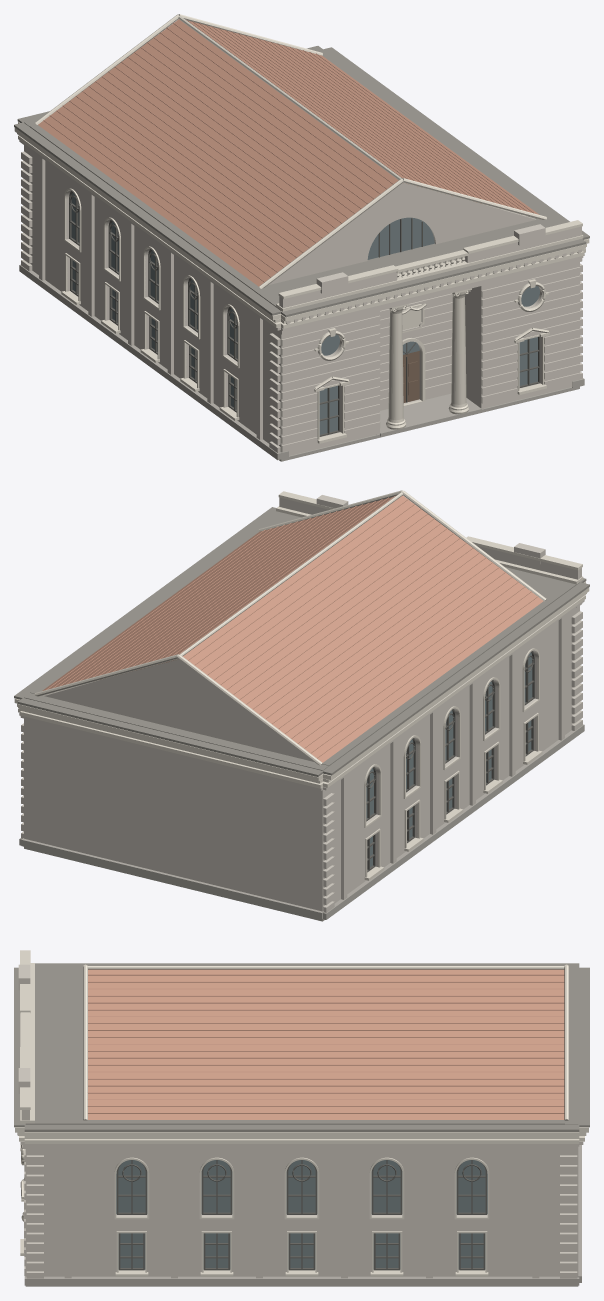
The model's file is jingan-ohel-rachel-synagogue-raw.glb.
3 renders of one model, top to bottom at view 1: azimuth 30°, elevation 25°; view 2: azimuth 150°, elevation 25°; view 3: azimuth 270°, elevation 25°, orthographic. The views are drawn at different scales.
Parts seen in each view (by area): view 1: 西摩路会堂（拉结会堂院内柱廊与侧窗）; view 2: 西摩路会堂（拉结会堂院内柱廊与侧窗）; view 3: 西摩路会堂（拉结会堂院内柱廊与侧窗）.
Part boxes in pixels (x1,y1,x2,y2): 西摩路会堂（拉结会堂院内柱廊与侧窗）: (14, 14, 589, 461); 西摩路会堂（拉结会堂院内柱廊与侧窗）: (14, 490, 589, 921); 西摩路会堂（拉结会堂院内柱廊与侧窗）: (14, 950, 589, 1286).
Size of the model in its own units: 18.84 by 12.84 by 27.54.
